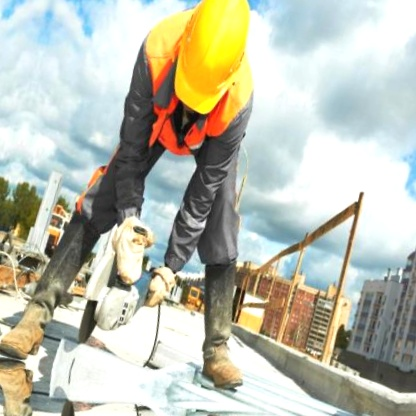vest: (71, 0, 281, 261)
yellow: (162, 0, 262, 124)
